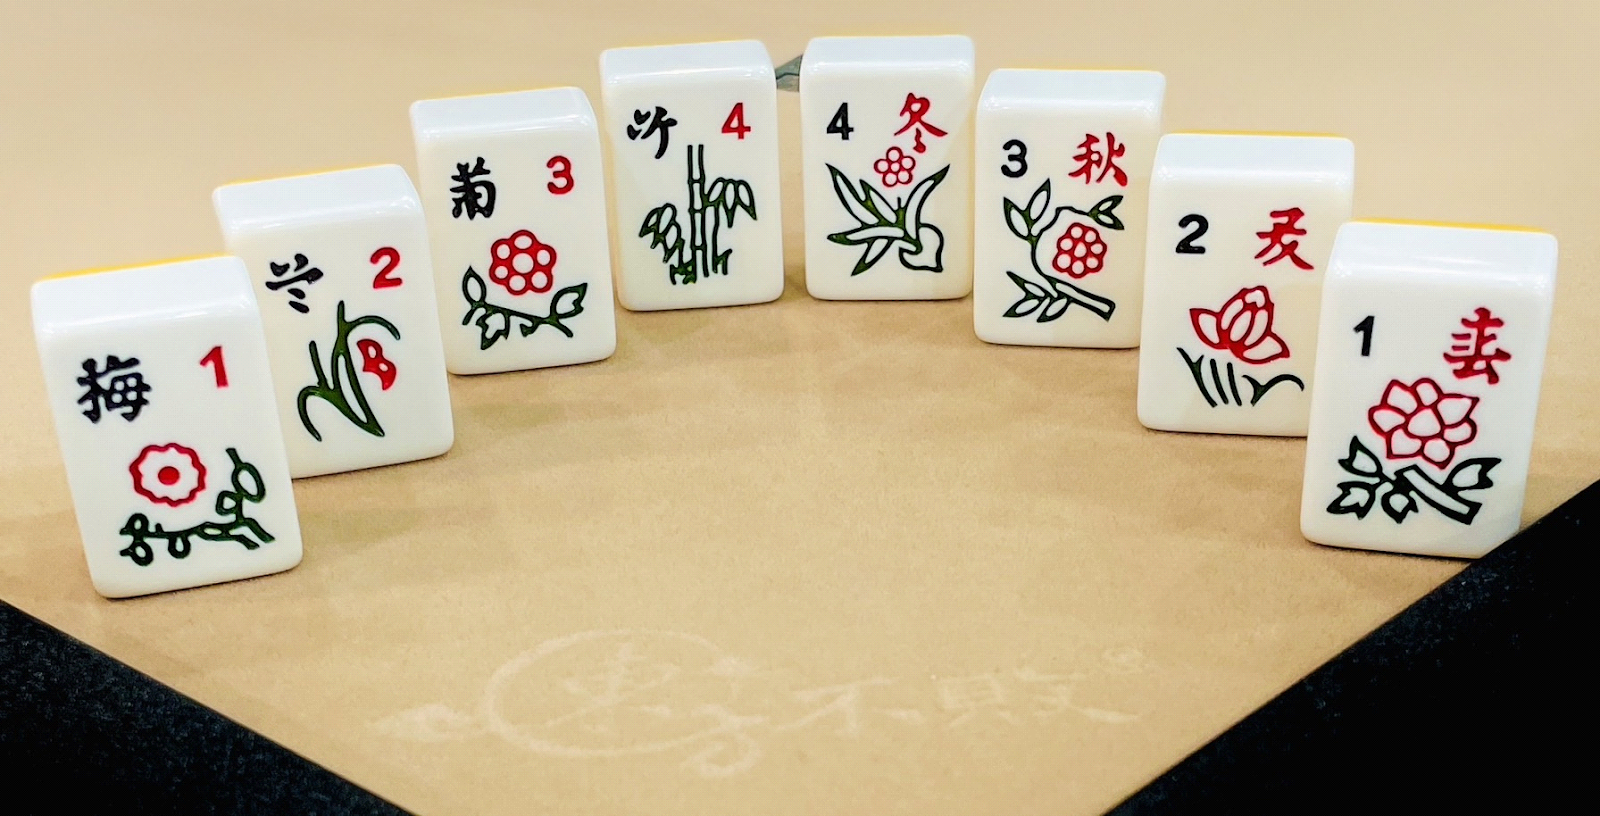f1: (40, 316, 268, 426)
f2: (249, 227, 428, 316)
f3: (424, 133, 597, 222)
f4: (611, 75, 766, 157)
s1: (814, 79, 959, 158)
s2: (981, 100, 1139, 196)
s3: (1152, 182, 1340, 278)
s4: (1327, 288, 1536, 386)
